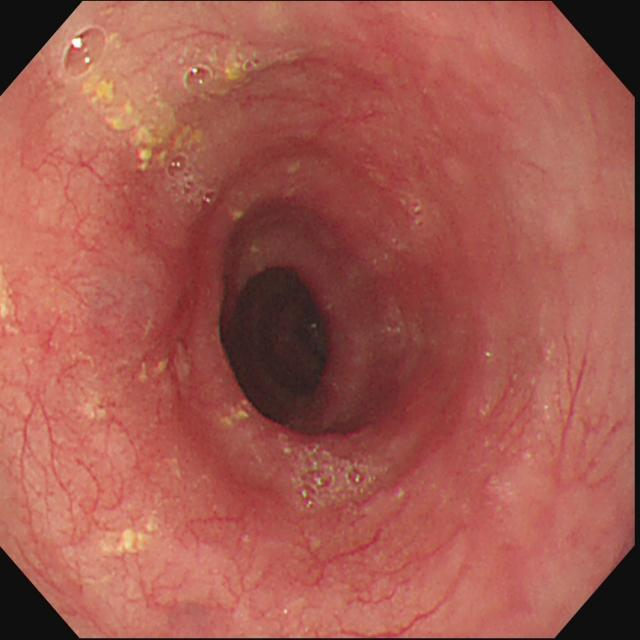E: (220, 256, 344, 415)
J: (84, 78, 202, 173), (107, 513, 160, 560), (224, 49, 250, 89), (219, 398, 253, 428)
T: (293, 446, 374, 508), (55, 29, 108, 76)
